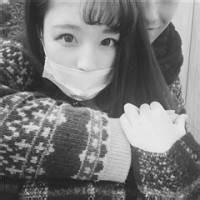WRONG: (47, 23, 122, 98)
